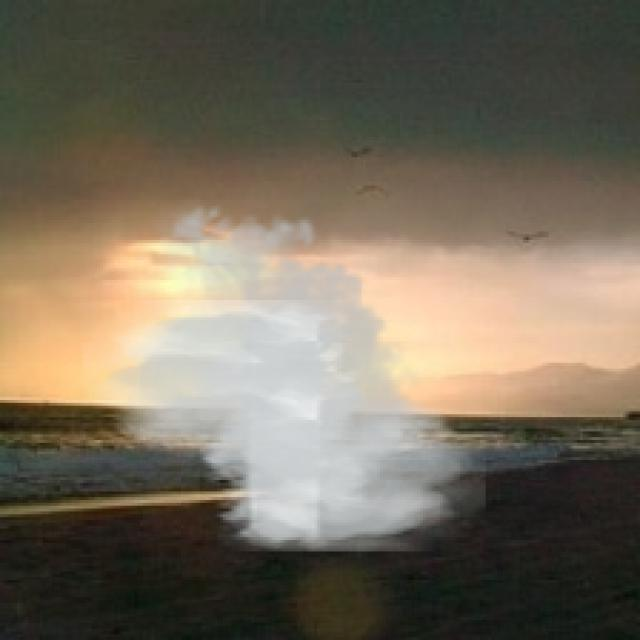Smoke: (83, 194, 486, 552)
